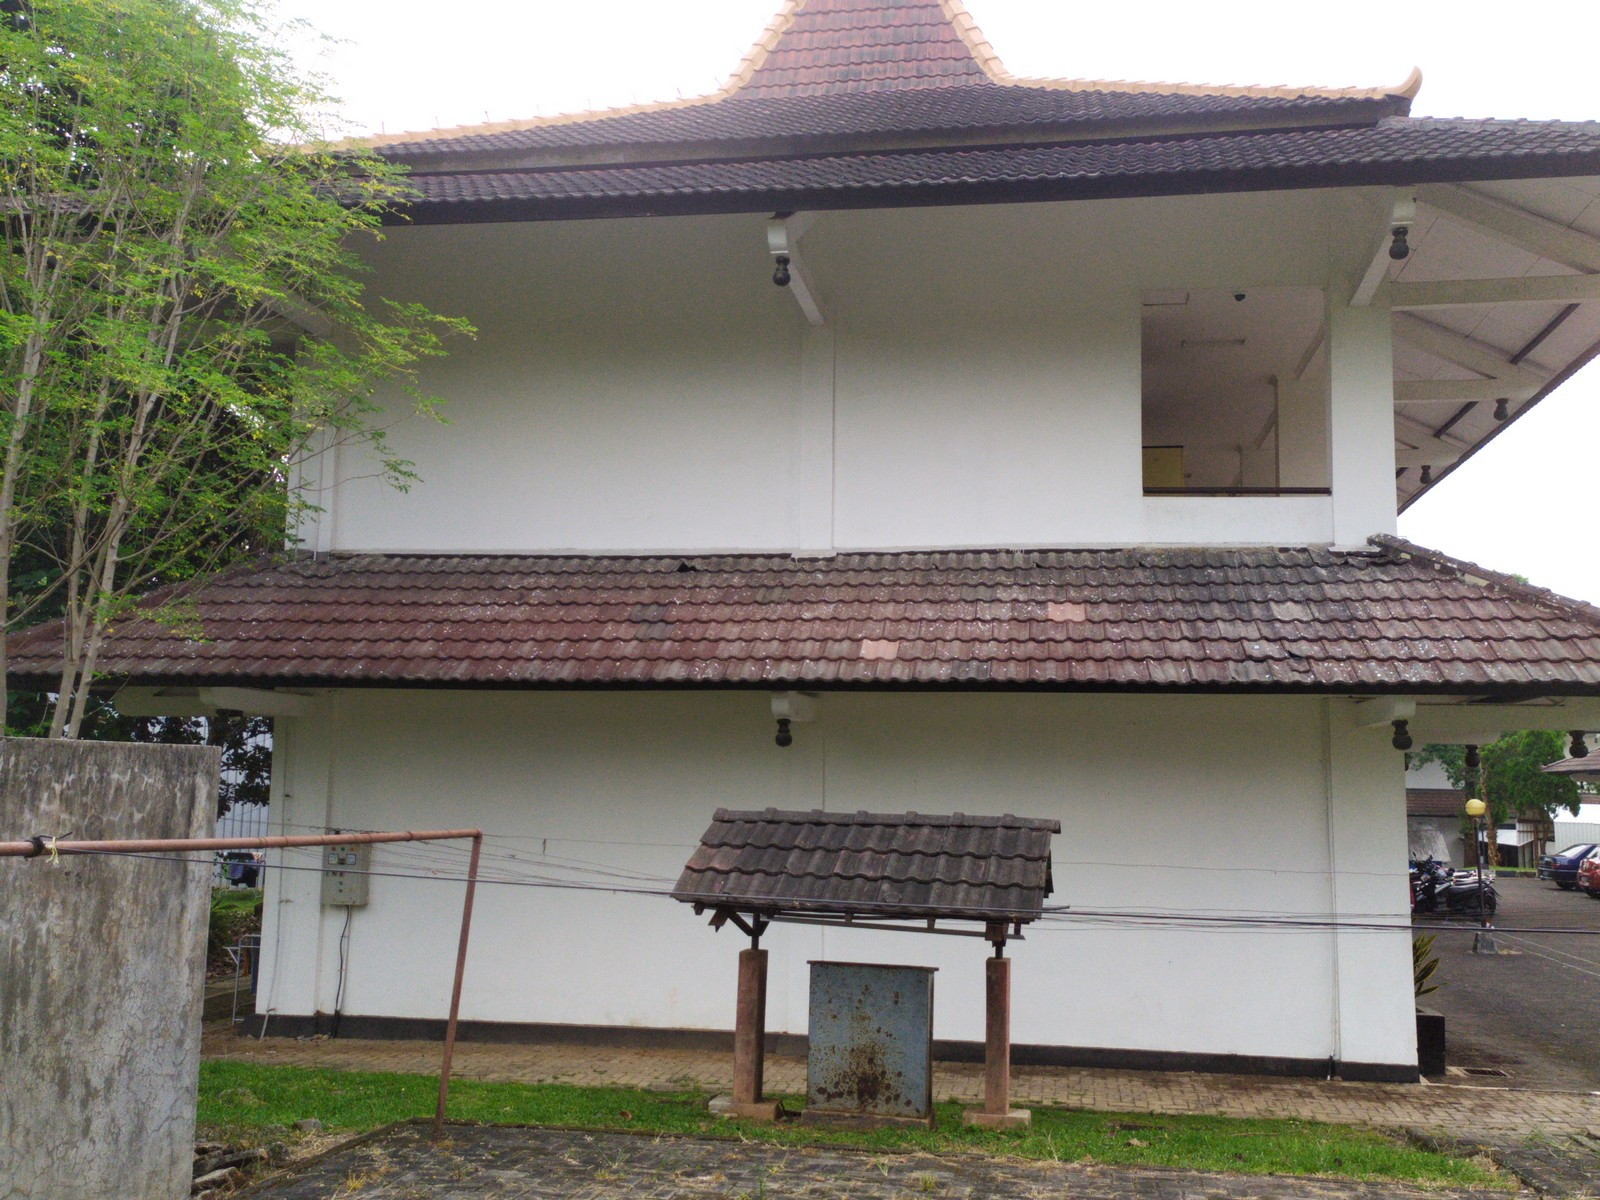concrete beam: (1380, 270, 1562, 313), (1383, 369, 1494, 410), (779, 257, 831, 334)
concrete column: (1322, 701, 1429, 1087), (1320, 228, 1411, 558)
